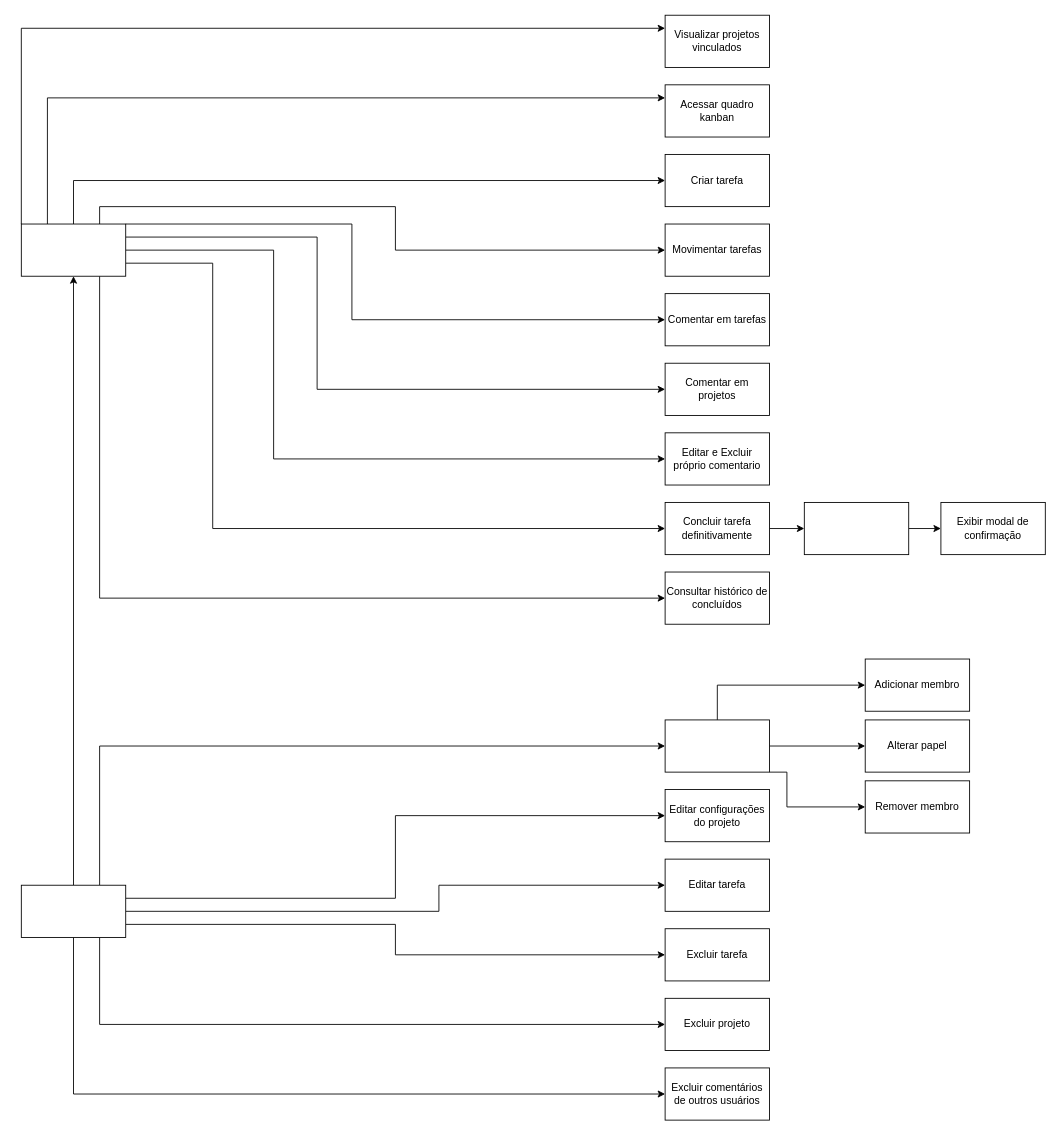
Some shapes in this 1061 by 1135 pixel diagram are drawn without their labels. Here are the shapes that lost their labels. From the top down, the centre of each, then its label:
point 73,249: Usuário autenticado
point 856,528: Validar flags
point 717,745: Gerenciar membros do projeto
point 73,910: Admin do projeto
